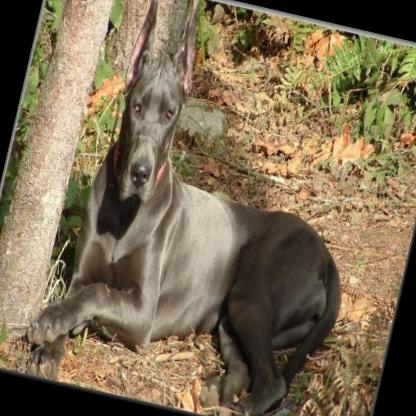Great_Dane: (15, 0, 401, 416)
